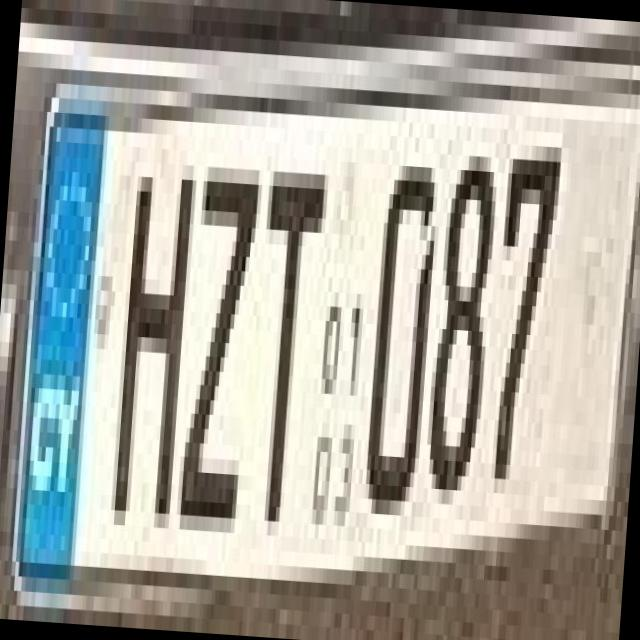7: (476, 114, 570, 482)
8: (421, 125, 500, 477)
D: (354, 134, 444, 502)
H: (100, 132, 196, 514)
T: (231, 126, 328, 523)
Z: (174, 137, 260, 504)
